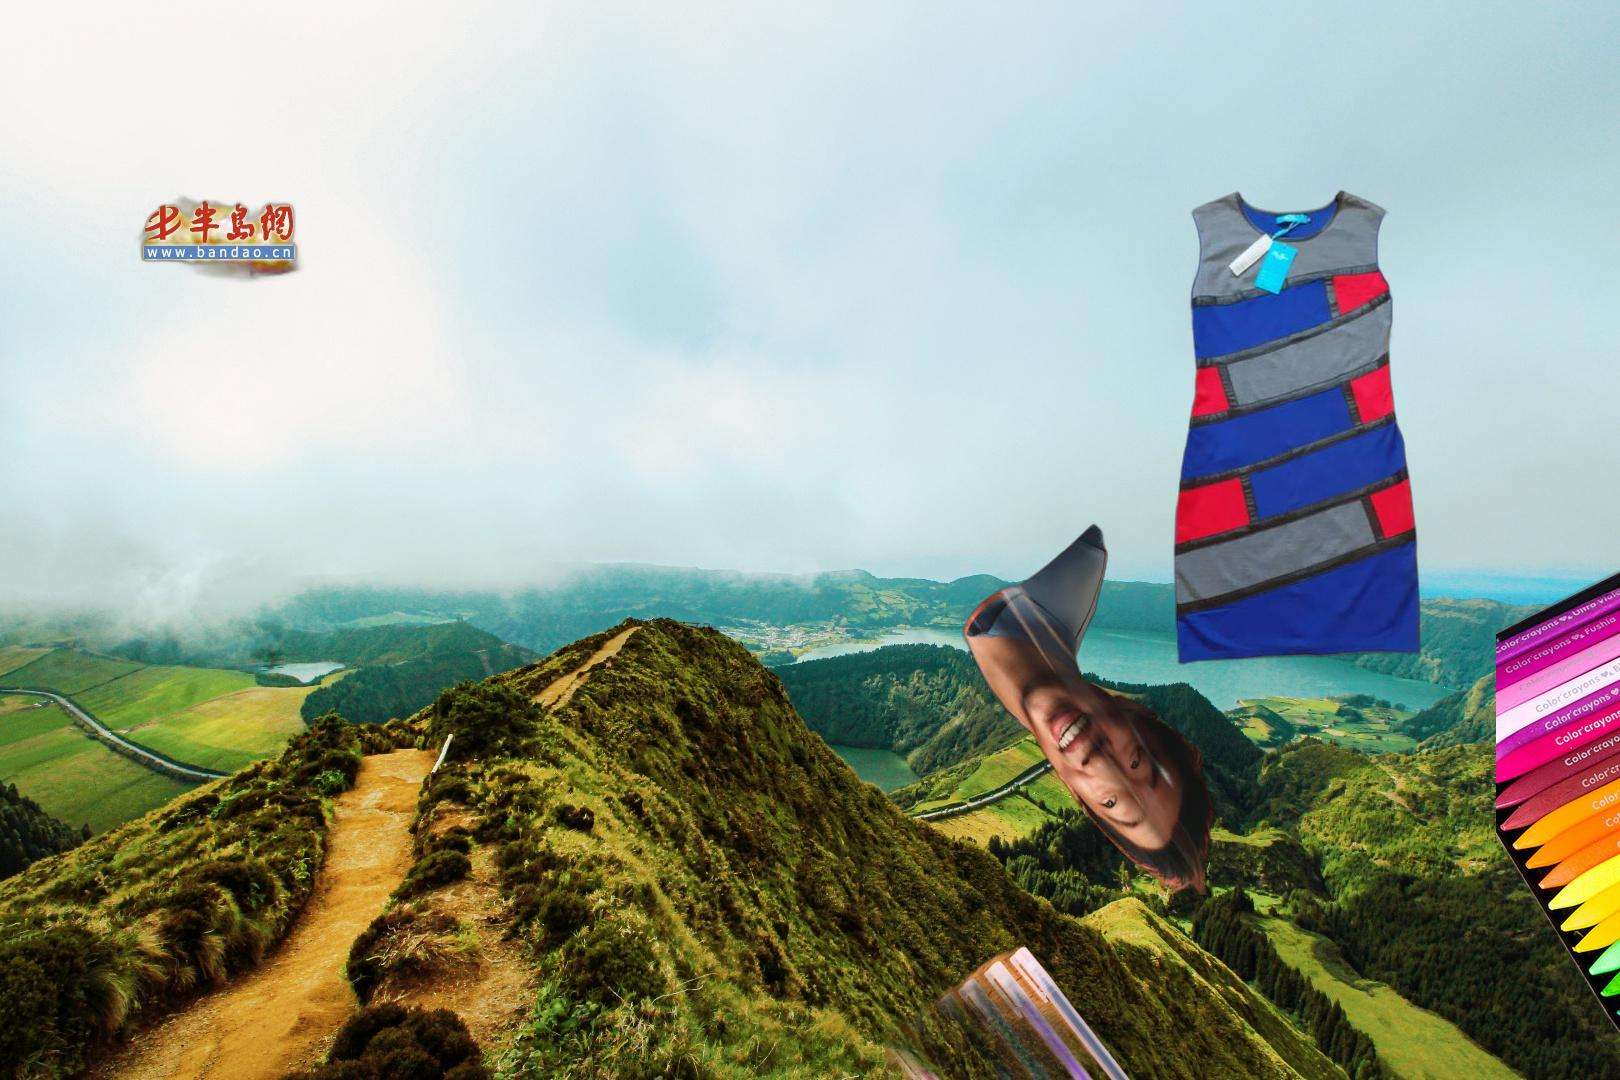biological: (131, 192, 309, 286)
clothes: (1170, 186, 1424, 669)
paper: (947, 522, 1219, 896)
penholder: (1496, 372, 1620, 1057), (885, 932, 1195, 1080), (638, 1062, 1438, 1080)
